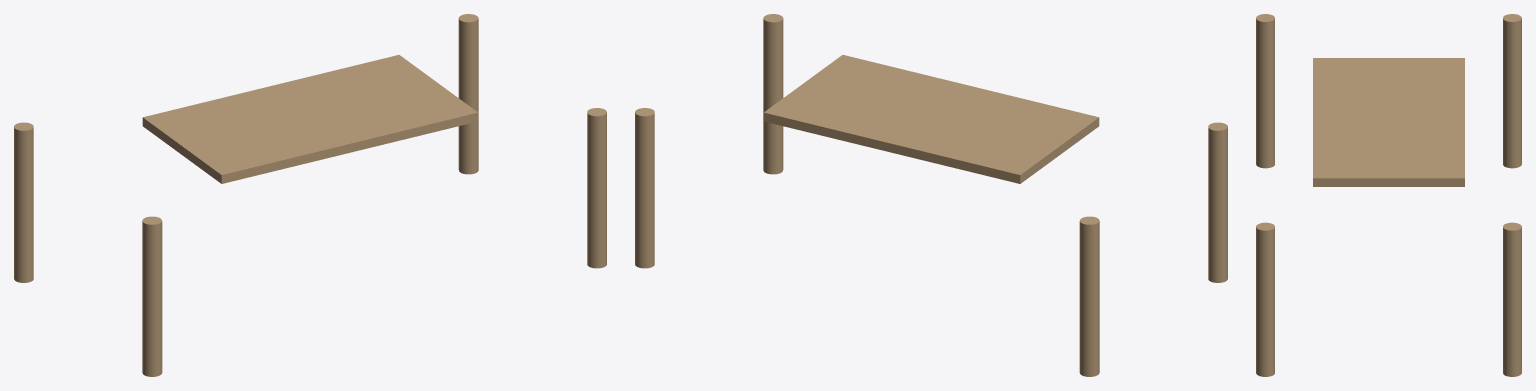
File: bench_table.glb
The picture shows the model from 3 angles, left to right: view 1: azimuth 30°, elevation 25°; view 2: azimuth 150°, elevation 25°; view 3: azimuth 270°, elevation 25°; orthographic projection. The views are drawn at different scales.
Parts seen in each view (by area): view 1: bench_top, bench_leg_-1.3_-0.65, bench_leg_1.3_-0.65, bench_leg_-1.3_0.65, bench_leg_1.3_0.65; view 2: bench_top, bench_leg_-1.3_0.65, bench_leg_1.3_0.65, bench_leg_-1.3_-0.65, bench_leg_1.3_-0.65; view 3: bench_top, bench_leg_1.3_0.65, bench_leg_1.3_-0.65, bench_leg_-1.3_0.65, bench_leg_-1.3_-0.65.
Boxes of the visible parts, bbox=[...] form: bench_top: bbox=[142, 55, 478, 183]; bench_leg_-1.3_-0.65: bbox=[142, 216, 162, 376]; bench_leg_1.3_-0.65: bbox=[587, 108, 606, 268]; bench_leg_-1.3_0.65: bbox=[14, 122, 33, 282]; bench_leg_1.3_0.65: bbox=[458, 14, 478, 174]; bench_top: bbox=[763, 55, 1099, 183]; bench_leg_-1.3_0.65: bbox=[1079, 216, 1099, 376]; bench_leg_1.3_0.65: bbox=[635, 108, 654, 268]; bench_leg_-1.3_-0.65: bbox=[1208, 122, 1227, 282]; bench_leg_1.3_-0.65: bbox=[763, 14, 783, 174]; bench_top: bbox=[1313, 58, 1464, 186]; bench_leg_1.3_0.65: bbox=[1503, 222, 1521, 376]; bench_leg_1.3_-0.65: bbox=[1256, 222, 1274, 376]; bench_leg_-1.3_0.65: bbox=[1503, 14, 1521, 168]; bench_leg_-1.3_-0.65: bbox=[1256, 14, 1274, 168].
Bounding box in the file's own units: 2.7 × 0.875 × 1.4.
